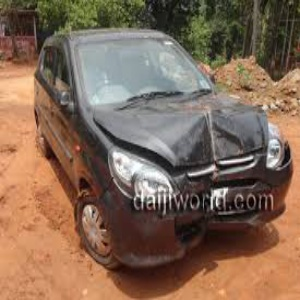bonnet: (153, 108, 263, 161)
bumper: (168, 215, 265, 258)
